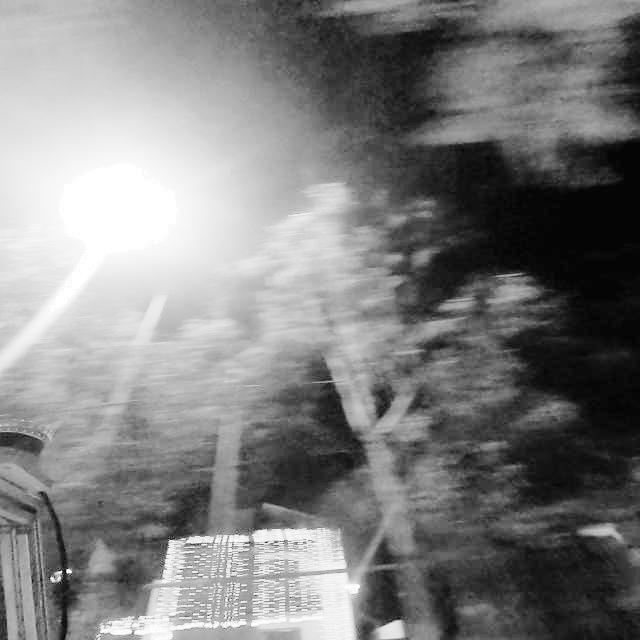Light: (59, 165, 186, 260)
